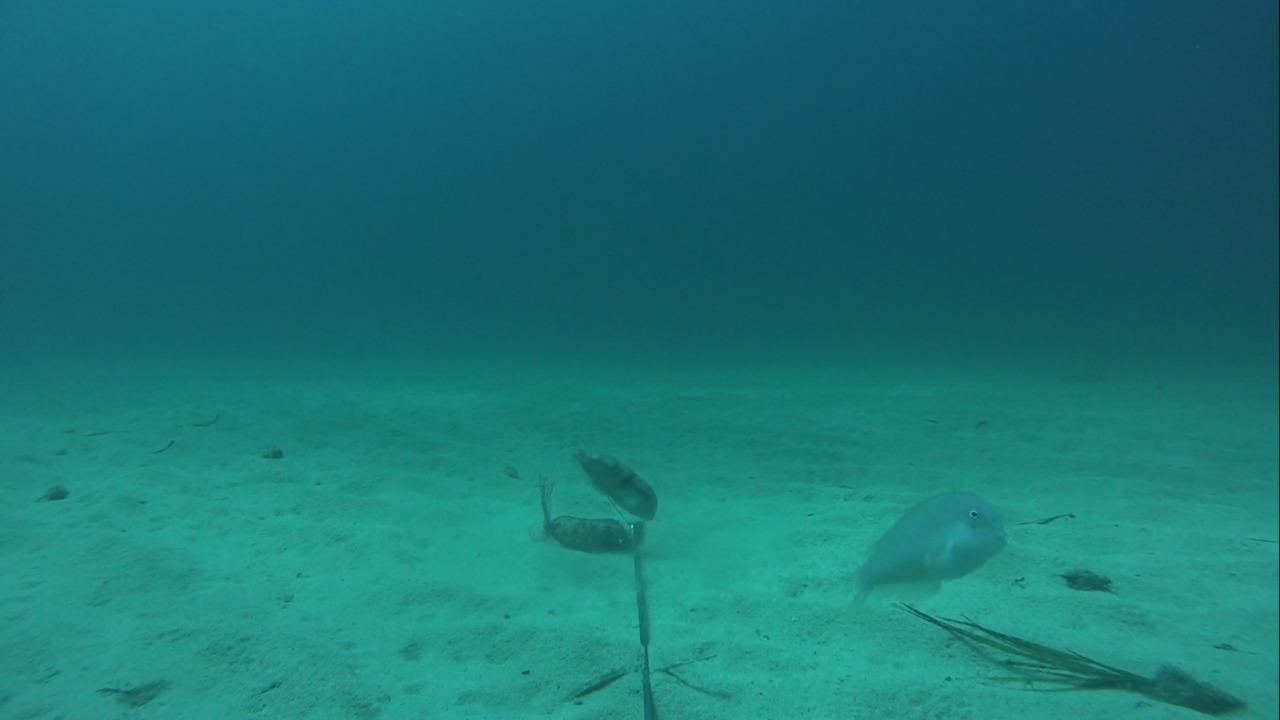raor: (843, 485, 1013, 611), (567, 443, 660, 525)
